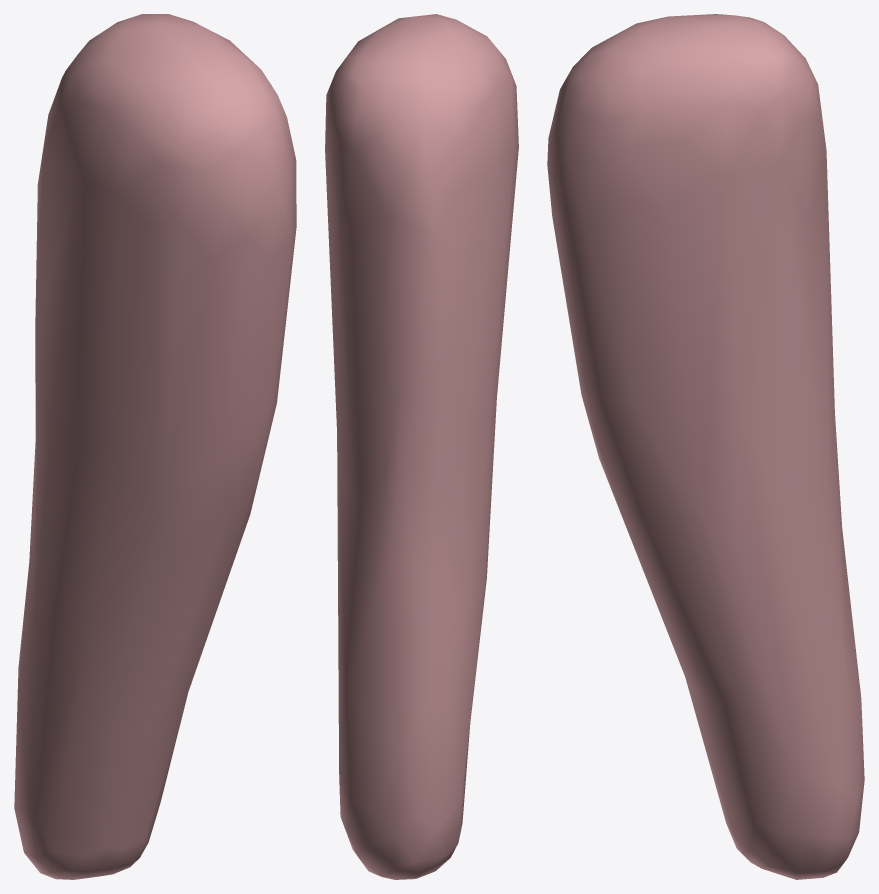
Rendered from fma59545_fj1360.glb.
The picture shows the model from 3 angles, left to right: view 1: azimuth 30°, elevation 25°; view 2: azimuth 150°, elevation 25°; view 3: azimuth 270°, elevation 25°; orthographic projection. The views are drawn at different scales.
Parts seen in each view (by area): view 1: FMA59545_FJ1360; view 2: FMA59545_FJ1360; view 3: FMA59545_FJ1360.
Part boxes in pixels (<box>): FMA59545_FJ1360: <box>14,14,296,879</box>; FMA59545_FJ1360: <box>325,14,518,879</box>; FMA59545_FJ1360: <box>547,14,864,879</box>.
Bounding box in the file's own units: 0.0033 × 0.0152 × 0.00503.
